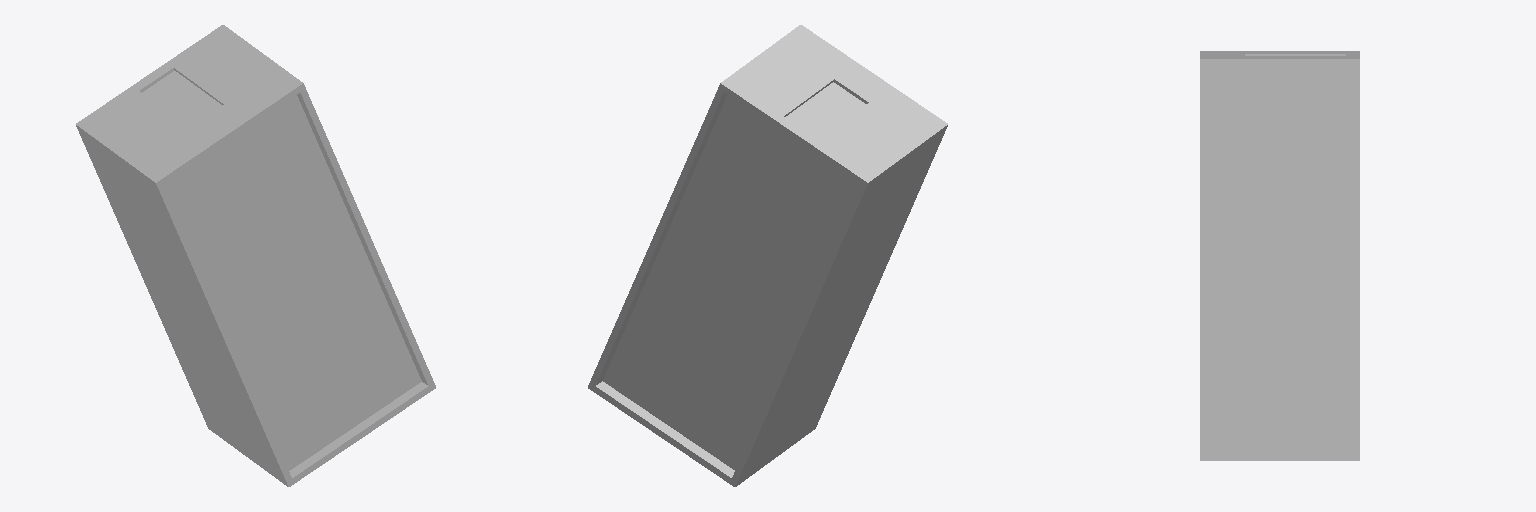
Rendered from ref_room_walls.obj.
3 views of the same model, side by side, from view 1: azimuth 30°, elevation 25°; view 2: azimuth 150°, elevation 25°; view 3: azimuth 270°, elevation 25° (orthographic).
Visible parts, largest first — view 1: Geometry Walls roof, Geometry Walls walls, Geometry Walls door; view 2: Geometry Walls floor, Geometry Walls walls, Geometry Walls door; view 3: Geometry Walls walls.
Boxes of the visible parts, x1=… form: Geometry Walls roof: x1=164, y1=95, x2=421, y2=470; Geometry Walls walls: x1=76, y1=25, x2=435, y2=486; Geometry Walls door: x1=142, y1=71, x2=222, y2=127; Geometry Walls floor: x1=603, y1=95, x2=859, y2=469; Geometry Walls walls: x1=588, y1=25, x2=947, y2=486; Geometry Walls door: x1=786, y1=82, x2=866, y2=139; Geometry Walls walls: x1=1200, y1=51, x2=1359, y2=460.
Bounding box in the file's own units: 6.85 × 9.35 × 3.4.